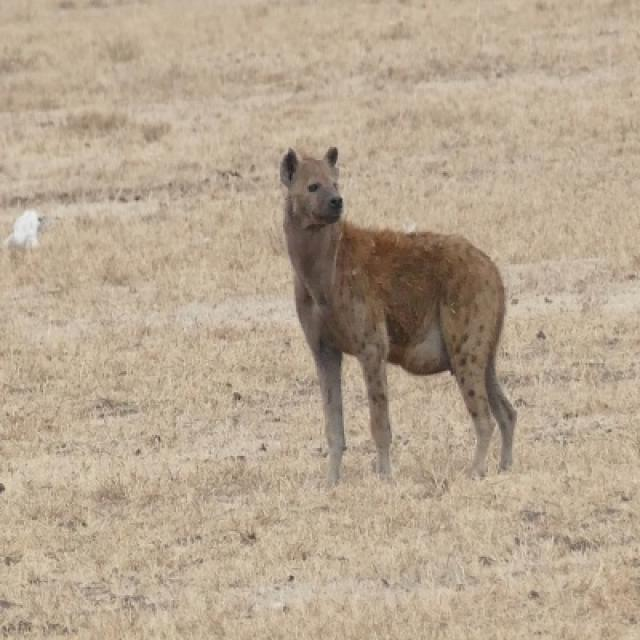hyena: (278, 149, 518, 488)
